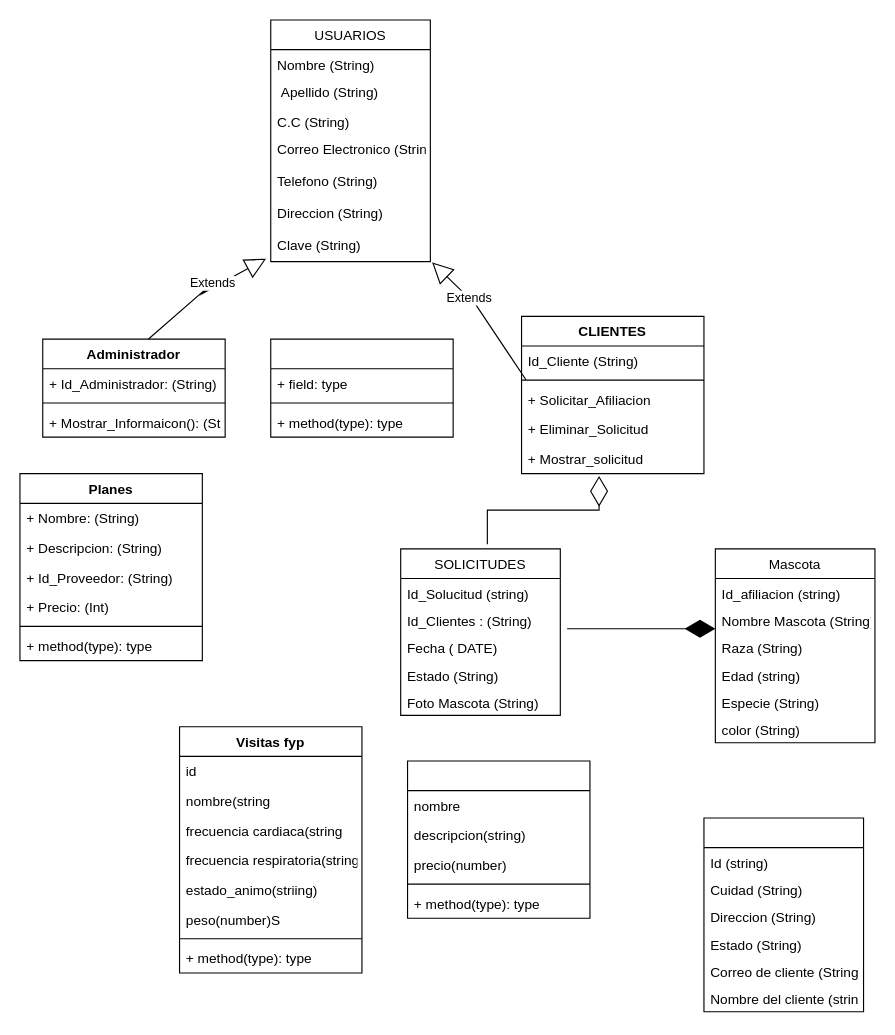
Some shapes in this 895 by 1035 pixel diagram are drawn without their labels. Each missing label, with the box of its shape:
Asesor: (270, 338, 453, 437)
Plan: (406, 760, 590, 918)
SOLICITUD A EVALUAR: (703, 817, 864, 1012)
